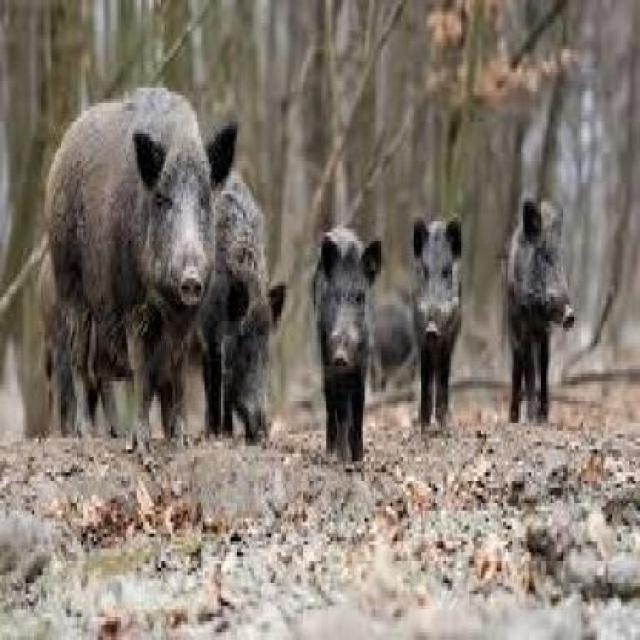wildboar: (41, 80, 242, 438), (192, 165, 290, 443), (33, 200, 125, 443), (308, 220, 386, 474), (500, 191, 578, 429), (408, 214, 466, 443)
